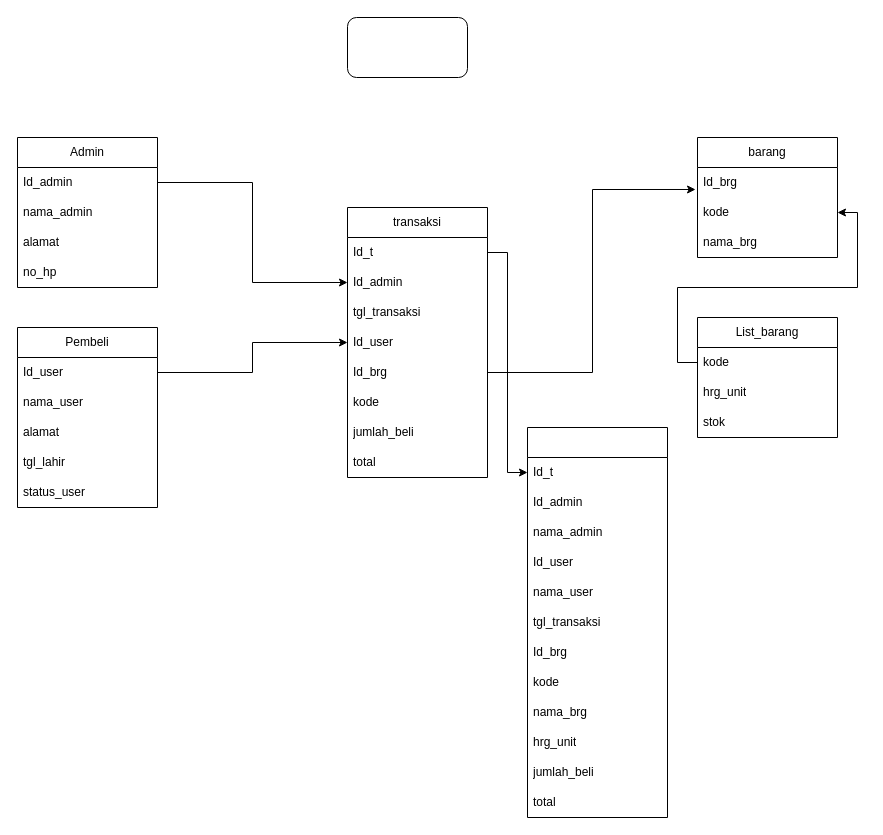
Some shapes in this 883 by 835 pixel diagram are drawn without their labels. Each missing label, with the box of its shape:
detai_transaksi: (526, 426, 668, 818)
Toko Online: (346, 16, 468, 78)
